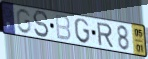8: (116, 24, 131, 52)
B: (54, 14, 72, 43)
G: (73, 18, 91, 45), (15, 8, 32, 35)
R: (96, 22, 115, 49)
S: (32, 10, 50, 39)
